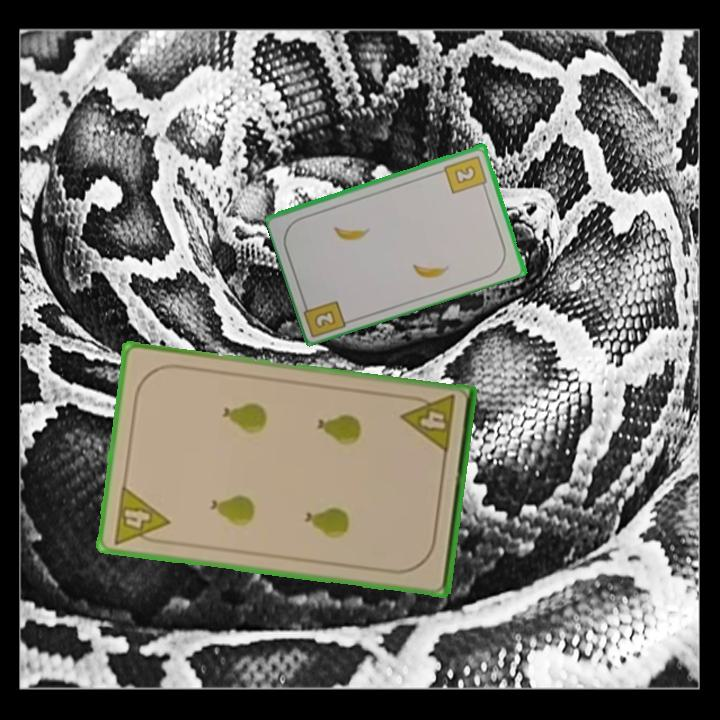2b: (441, 152, 490, 196), (311, 306, 339, 331)
4p: (109, 482, 172, 548), (398, 391, 458, 457)
